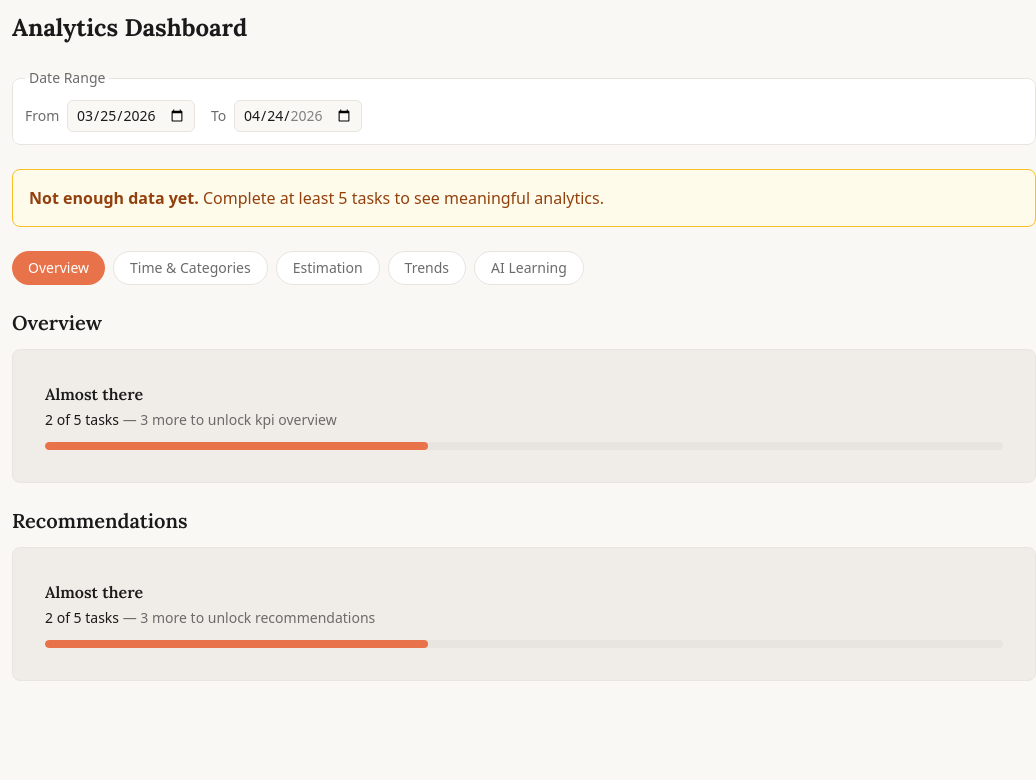
Test: AnalyticsDashboard › low-data states › shows Estimation Accuracy low-data state when weeksOfData < 2
// Estimation Accuracy is on the "Estimation" tab
Click the button "Estimation".
click(328, 268)  # box [276, 251, 380, 285]
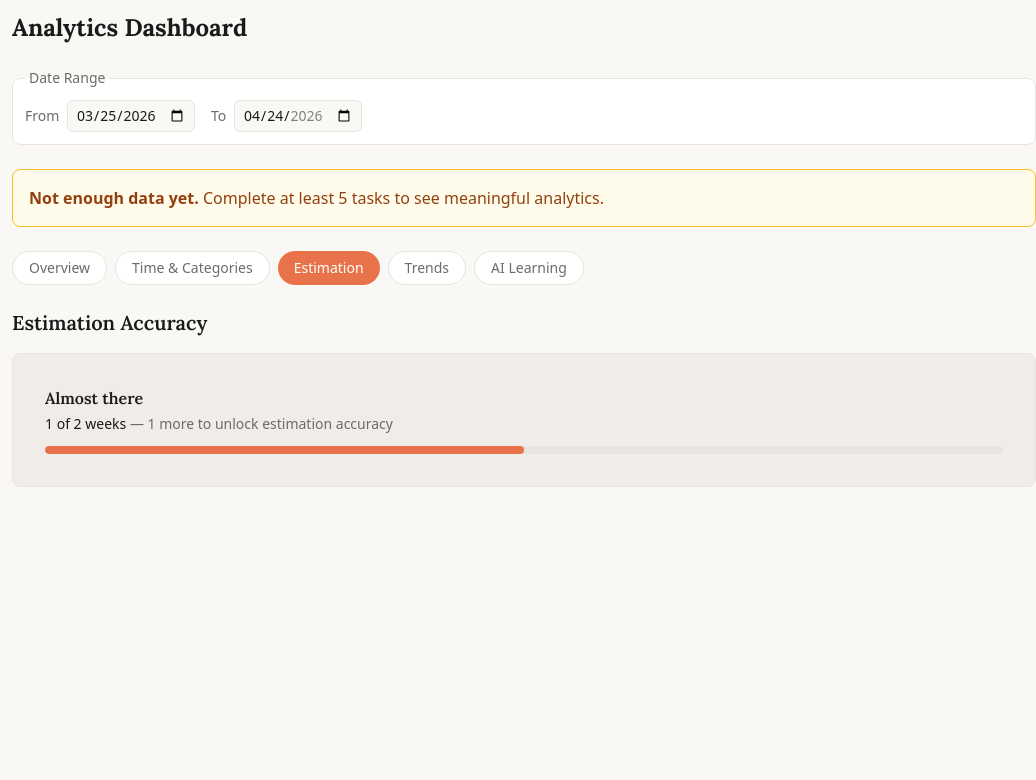
expect the element "Estimation Accuracy" is shown: met, box [12, 309, 1035, 487]
